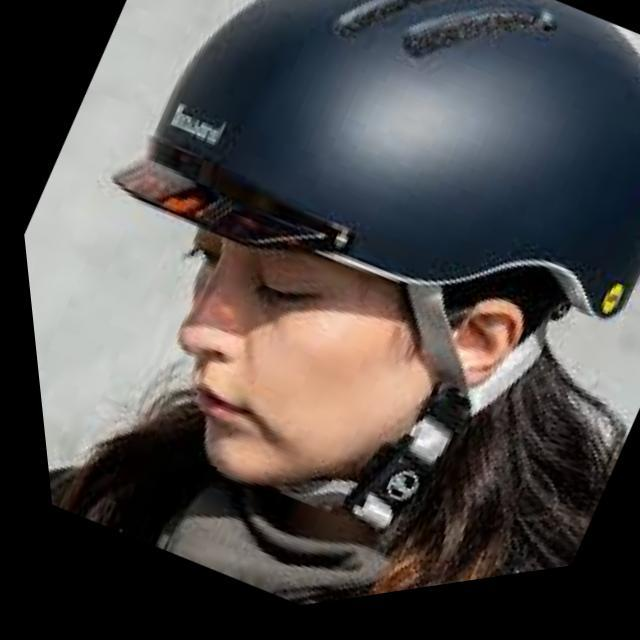Helmet: (48, 1, 637, 598)
